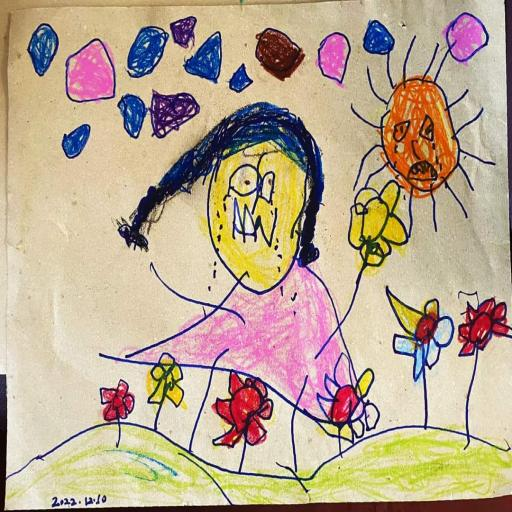person: (119, 103, 357, 421)
